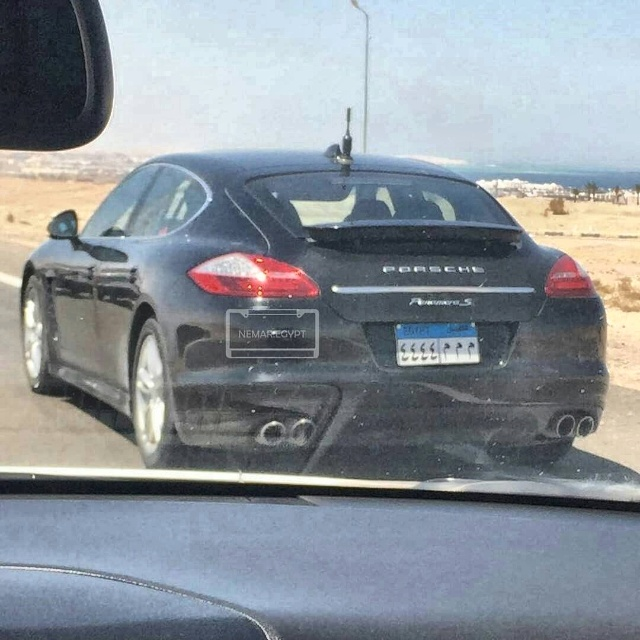License Plate: (391, 318, 482, 369)
